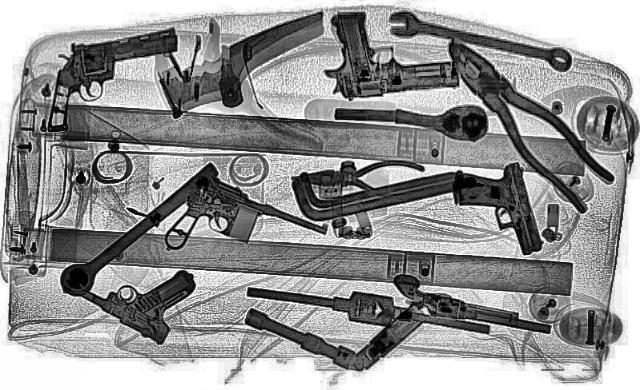Gun: (134, 176, 338, 286), (13, 28, 205, 132), (59, 246, 239, 344), (312, 4, 460, 102), (378, 272, 564, 334), (445, 162, 545, 260)
Pliers: (418, 32, 634, 214), (290, 159, 424, 197)
Wrench: (377, 7, 581, 69)
